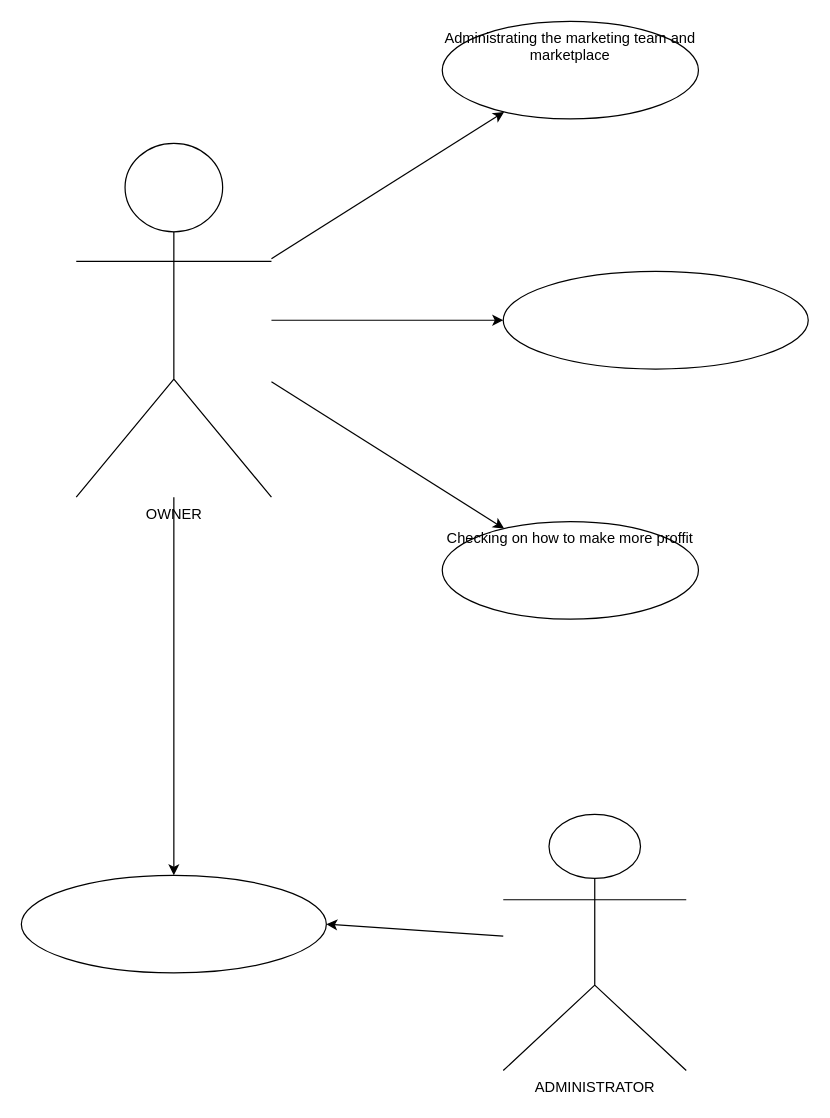
Image size: 830x1118. Some labels were removed from this diagram. The shapes that lost their labels are listed below. From the top down, each one's centre as x and y in pixels, then its label:
(x=655, y=319): Check on the likes and dislikes of the public
(x=173, y=923): Checking user data and stadistics
